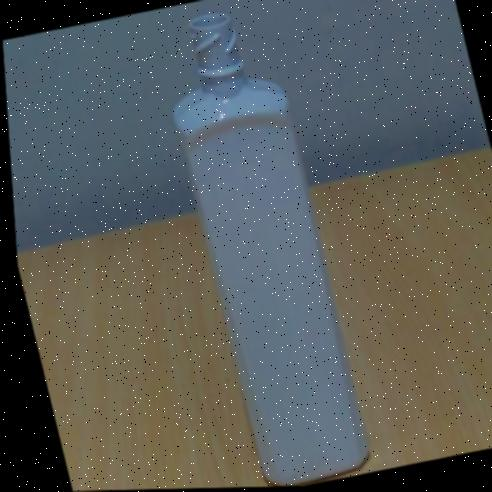bottle: (172, 14, 367, 485)
